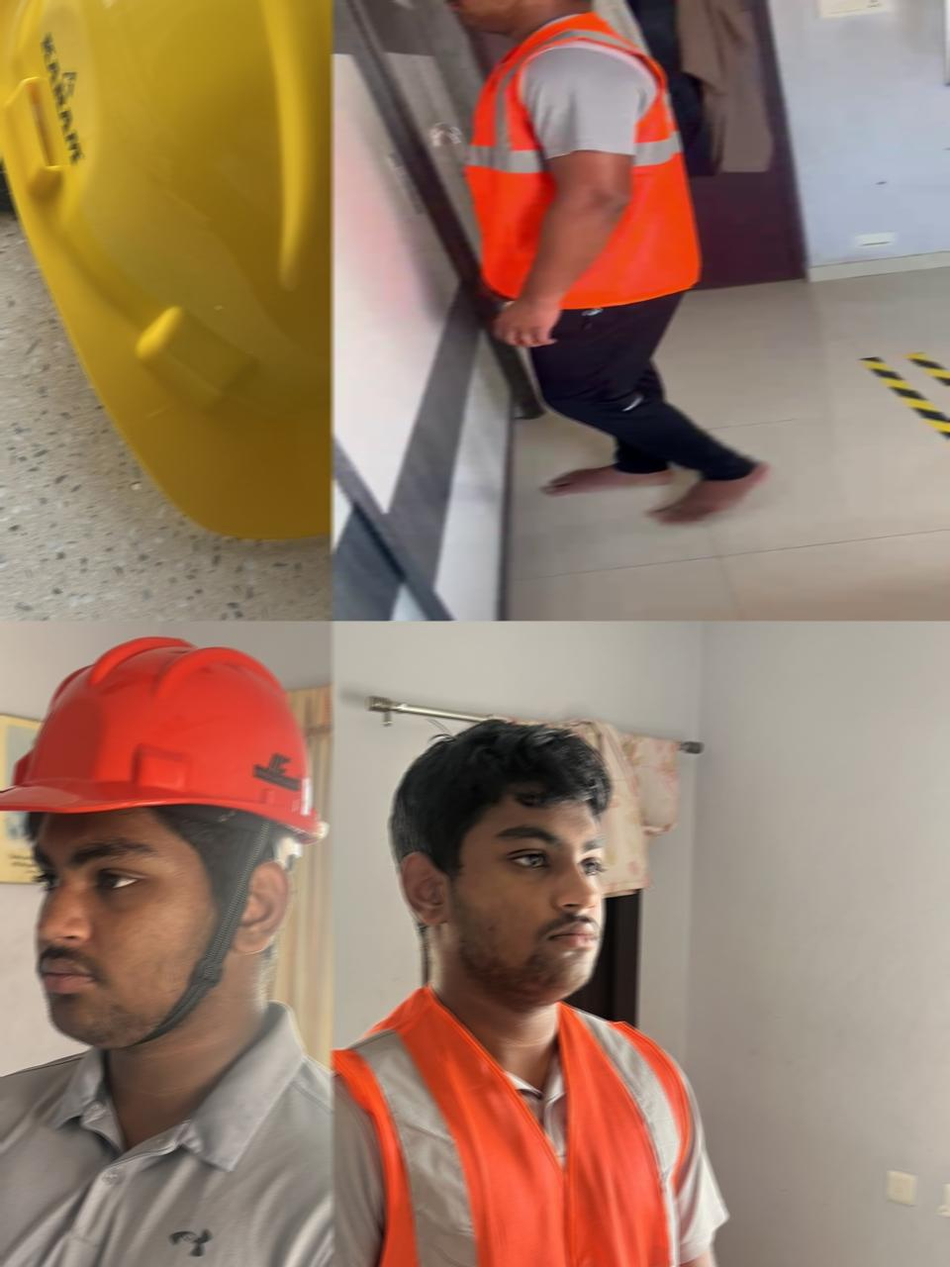BorderLine: (856, 351, 950, 440)
Helmet: (0, 0, 332, 540), (0, 634, 328, 1049)
No_Helmet: (390, 719, 615, 1013)
No_Vest: (0, 1001, 332, 1267)
Person: (332, 719, 760, 1267), (0, 634, 332, 1267), (446, 0, 769, 524)
Vest: (332, 985, 689, 1267), (464, 10, 702, 309)
